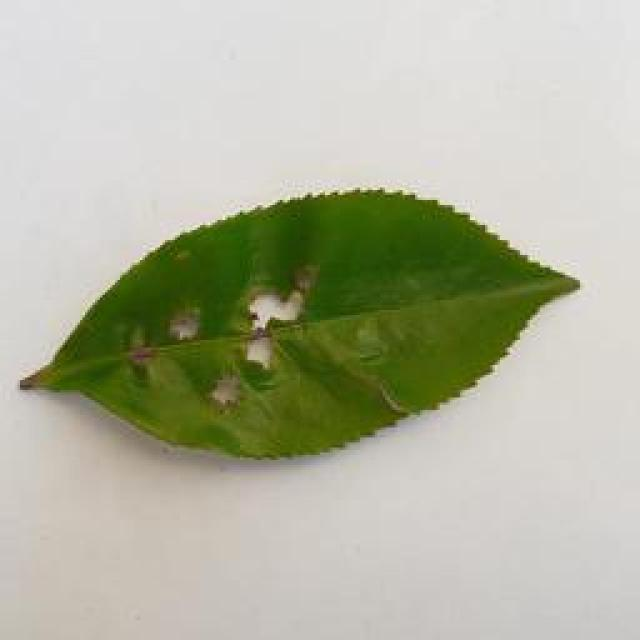Helopeltis: (22, 187, 584, 469)
